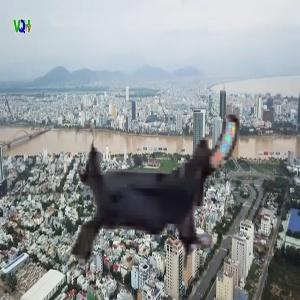drone: (47, 89, 256, 298)
